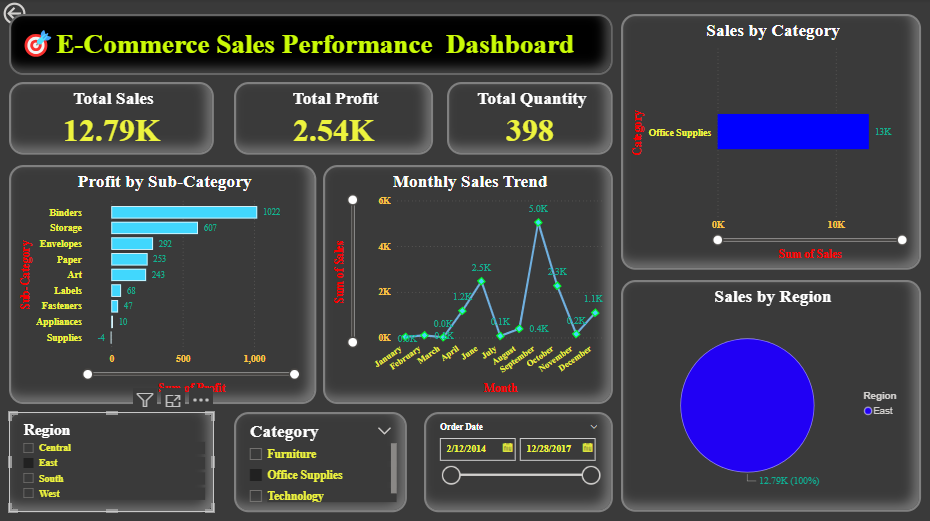

The dashboard page shown, as its layout file describes it:
{"tool":"powerbi","page":{"name":"Page 1","canvas":[1280,720],"ordinal":0},"visuals":[{"type":"actionButton","box":[0,0,100,40],"z":0},{"type":"card","title":"Total Sales","fields":{"Values":["Sum(Ecommerce_Sales_Data.Sales)"]},"box":[12.4,114.2,282.2,100.5],"z":1000},{"type":"card","title":"Total Profit","fields":{"Values":["Sum(Ecommerce_Sales_Data.Profit)"]},"box":[322.1,114.2,273.9,100.5],"z":2000},{"type":"card","title":"Total Quantity","fields":{"Values":["Sum(Ecommerce_Sales_Data.Quantity)"]},"box":[615.2,114.2,228.5,100.5],"z":3000},{"type":"clusteredBarChart","title":"Sales by Category","fields":{"Category":["Ecommerce_Sales_Data.Category"],"Y":["Sum(Ecommerce_Sales_Data.Sales)"]},"box":[854.7,20.6,412.9,352.3],"z":4000},{"type":"clusteredBarChart","title":"Profit by Sub-Category","fields":{"Category":["Ecommerce_Sales_Data.Sub-Category"],"Y":["Sum(Ecommerce_Sales_Data.Profit)"]},"box":[12.4,228.5,422.5,328.9],"z":5000},{"type":"lineChart","title":"Monthly Sales Trend","fields":{"Category":["Ecommerce_Sales_Data.Order Date.Variation.Date Hierarchy.Month"],"Y":["Sum(Ecommerce_Sales_Data.Sales)"]},"box":[444.6,228.5,399.1,328.9],"z":6000},{"type":"pieChart","title":"Sales by Region","fields":{"Category":["Ecommerce_Sales_Data.Region"],"Y":["Sum(Ecommerce_Sales_Data.Sales)"]},"box":[854.7,386.8,412.9,319.3],"z":7000},{"type":"slicer","title":"Region","fields":{"Values":["Ecommerce_Sales_Data.Region"]},"box":[12.4,568.4,282.2,137.6],"z":8000},{"type":"slicer","title":"Category","fields":{"Values":["Ecommerce_Sales_Data.Category"]},"box":[322.1,568.4,238.1,137.6],"z":9000},{"type":"slicer","title":"Order Date","fields":{"Values":["Ecommerce_Sales_Data.Order Date"]},"box":[583.6,568.4,260.1,137.6],"z":10000},{"type":"textbox","box":[12.4,20.6,831.3,84],"z":11000}]}

Visuals, with their boxes in screenshot pixels (x1, y1, x2, y2), scaled from the page's 1280x720 canvas onto the 930x521 screenshot:
actionButton: <box>0,0,73,29</box>
"Total Sales" card: <box>9,83,214,155</box>
"Total Profit" card: <box>234,83,433,155</box>
"Total Quantity" card: <box>447,83,613,155</box>
"Sales by Category" clusteredBarChart: <box>621,15,921,270</box>
"Profit by Sub-Category" clusteredBarChart: <box>9,165,316,403</box>
"Monthly Sales Trend" lineChart: <box>323,165,613,403</box>
"Sales by Region" pieChart: <box>621,280,921,511</box>
"Region" slicer: <box>9,411,214,511</box>
"Category" slicer: <box>234,411,407,511</box>
"Order Date" slicer: <box>424,411,613,511</box>
textbox: <box>9,15,613,76</box>
